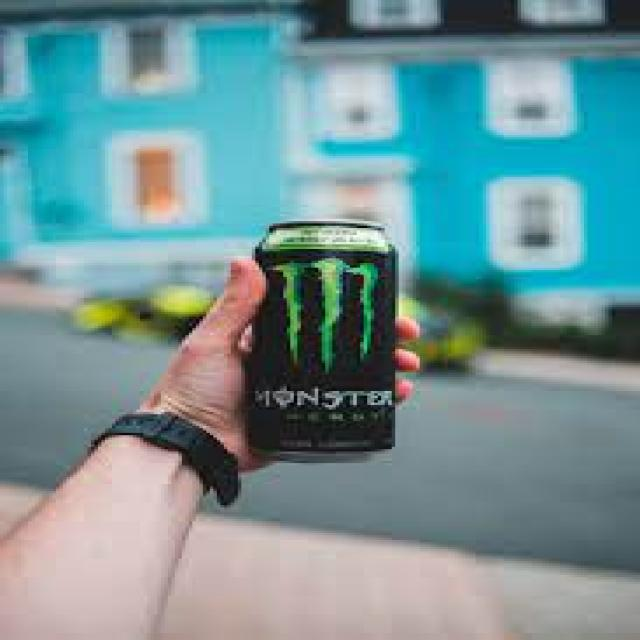can: (244, 219, 401, 466)
